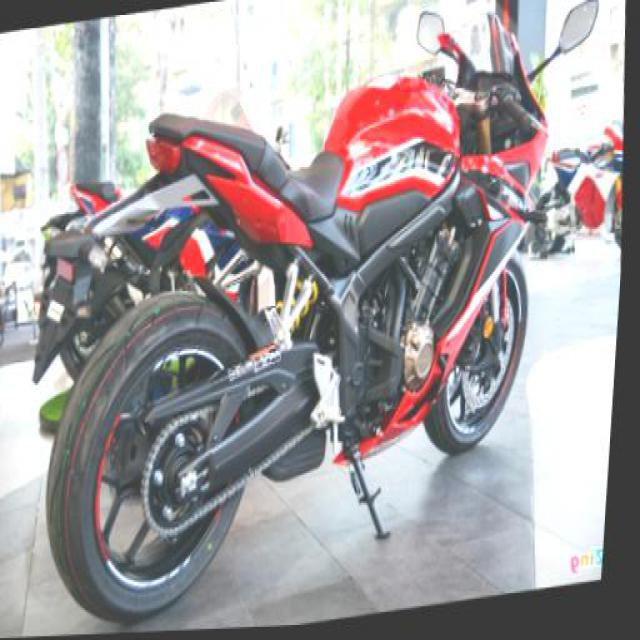CBR650R: (26, 5, 562, 635)
